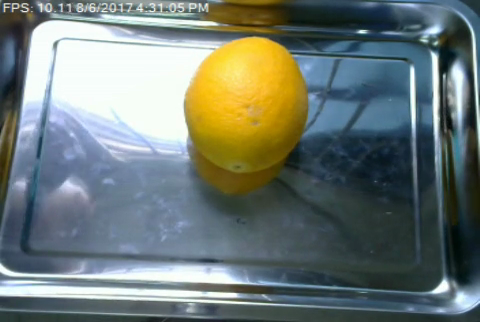Orange: (184, 36, 309, 175)
